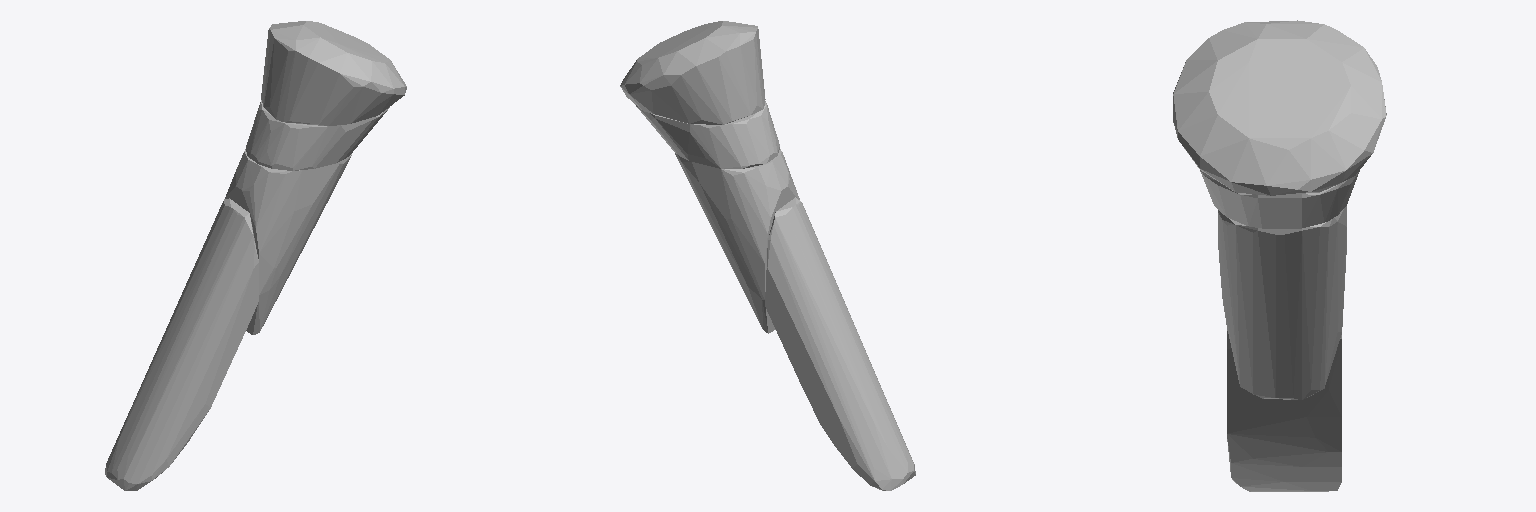
The robot description file, URDF, robot "root":
<robot name="root">
  <link name="link_thingiverse~recorder_mouth_piece_186865_convex_piece_0">
    <inertial>
      <origin rpy="0 0 0" xyz="0 0 0"/>
      <mass value="3.31E-02"/>
      <inertia ixx="6.15E-05" ixy="-3.14E-07" ixz="3.73E-05" iyy="8.41E-05" iyz="-5.29E-07" izz="2.44E-05"/>
    </inertial>
    <visual>
      <origin rpy="0 0 0" xyz="0 0 0"/>
      <geometry>
        <mesh filename="thingiverse~recorder_mouth_piece_186865_convex_piece_0.obj" scale="1.0000E+00 1.0000E+00 1.0000E+00"/>
      </geometry>
      <material name="">
        <color rgba="7.50E-01 7.50E-01 7.50E-01 1"/>
      </material>
    </visual>
    <collision>
      <origin rpy="0 0 0" xyz="0 0 0"/>
      <geometry>
        <mesh filename="thingiverse~recorder_mouth_piece_186865_convex_piece_0.obj" scale="1.0000E+00 1.0000E+00 1.0000E+00"/>
      </geometry>
    </collision>
  </link>
  <link name="link_thingiverse~recorder_mouth_piece_186865_convex_piece_1">
    <inertial>
      <origin rpy="0 0 0" xyz="0 0 0"/>
      <mass value="3.70E-02"/>
      <inertia ixx="7.83E-06" ixy="-2.14E-08" ixz="1.65E-06" iyy="8.41E-06" iyz="1.84E-08" izz="2.91E-06"/>
    </inertial>
    <visual>
      <origin rpy="0 0 0" xyz="0 0 0"/>
      <geometry>
        <mesh filename="thingiverse~recorder_mouth_piece_186865_convex_piece_1.obj" scale="1.0000E+00 1.0000E+00 1.0000E+00"/>
      </geometry>
      <material name="">
        <color rgba="7.50E-01 7.50E-01 7.50E-01 1"/>
      </material>
    </visual>
    <collision>
      <origin rpy="0 0 0" xyz="0 0 0"/>
      <geometry>
        <mesh filename="thingiverse~recorder_mouth_piece_186865_convex_piece_1.obj" scale="1.0000E+00 1.0000E+00 1.0000E+00"/>
      </geometry>
    </collision>
  </link>
  <joint name="link_thingiverse~recorder_mouth_piece_186865_convex_piece_1_joint" type="fixed">
    <origin rpy="0 0 0" xyz="0 0 0"/>
    <parent link="link_thingiverse~recorder_mouth_piece_186865_convex_piece_0"/>
    <child link="link_thingiverse~recorder_mouth_piece_186865_convex_piece_1"/>
  </joint>
  <link name="link_thingiverse~recorder_mouth_piece_186865_convex_piece_2">
    <inertial>
      <origin rpy="0 0 0" xyz="0 0 0"/>
      <mass value="1.99E-02"/>
      <inertia ixx="5.63E-06" ixy="-1.28E-07" ixz="3.39E-06" iyy="8.43E-06" iyz="-1.77E-07" izz="4.59E-06"/>
    </inertial>
    <visual>
      <origin rpy="0 0 0" xyz="0 0 0"/>
      <geometry>
        <mesh filename="thingiverse~recorder_mouth_piece_186865_convex_piece_2.obj" scale="1.0000E+00 1.0000E+00 1.0000E+00"/>
      </geometry>
      <material name="">
        <color rgba="7.50E-01 7.50E-01 7.50E-01 1"/>
      </material>
    </visual>
    <collision>
      <origin rpy="0 0 0" xyz="0 0 0"/>
      <geometry>
        <mesh filename="thingiverse~recorder_mouth_piece_186865_convex_piece_2.obj" scale="1.0000E+00 1.0000E+00 1.0000E+00"/>
      </geometry>
    </collision>
  </link>
  <joint name="link_thingiverse~recorder_mouth_piece_186865_convex_piece_2_joint" type="fixed">
    <origin rpy="0 0 0" xyz="0 0 0"/>
    <parent link="link_thingiverse~recorder_mouth_piece_186865_convex_piece_1"/>
    <child link="link_thingiverse~recorder_mouth_piece_186865_convex_piece_2"/>
  </joint>
  <link name="link_thingiverse~recorder_mouth_piece_186865_convex_piece_3">
    <inertial>
      <origin rpy="0 0 0" xyz="0 0 0"/>
      <mass value="3.69E-02"/>
      <inertia ixx="3.39E-05" ixy="-3.50E-07" ixz="1.49E-05" iyy="4.14E-05" iyz="-6.94E-07" izz="1.28E-05"/>
    </inertial>
    <visual>
      <origin rpy="0 0 0" xyz="0 0 0"/>
      <geometry>
        <mesh filename="thingiverse~recorder_mouth_piece_186865_convex_piece_3.obj" scale="1.0000E+00 1.0000E+00 1.0000E+00"/>
      </geometry>
      <material name="">
        <color rgba="7.50E-01 7.50E-01 7.50E-01 1"/>
      </material>
    </visual>
    <collision>
      <origin rpy="0 0 0" xyz="0 0 0"/>
      <geometry>
        <mesh filename="thingiverse~recorder_mouth_piece_186865_convex_piece_3.obj" scale="1.0000E+00 1.0000E+00 1.0000E+00"/>
      </geometry>
    </collision>
  </link>
  <joint name="link_thingiverse~recorder_mouth_piece_186865_convex_piece_3_joint" type="fixed">
    <origin rpy="0 0 0" xyz="0 0 0"/>
    <parent link="link_thingiverse~recorder_mouth_piece_186865_convex_piece_2"/>
    <child link="link_thingiverse~recorder_mouth_piece_186865_convex_piece_3"/>
  </joint>
</robot>

--- What the picture shows (computed from the rendered views, not written in the file) ---
The picture shows the robot from 3 angles, left to right: view 1: azimuth 30°, elevation 25°; view 2: azimuth 150°, elevation 25°; view 3: azimuth 270°, elevation 25°; orthographic projection.
Robot: root — 4 links, 3 joints (3 fixed); root link link_thingiverse~recorder_mouth_piece_186865_convex_piece_0; default pose: every joint at zero.
Links seen in each view (by area): view 1: link_thingiverse~recorder_mouth_piece_186865_convex_piece_0, link_thingiverse~recorder_mouth_piece_186865_convex_piece_3, link_thingiverse~recorder_mouth_piece_186865_convex_piece_1, link_thingiverse~recorder_mouth_piece_186865_convex_piece_2; view 2: link_thingiverse~recorder_mouth_piece_186865_convex_piece_0, link_thingiverse~recorder_mouth_piece_186865_convex_piece_3, link_thingiverse~recorder_mouth_piece_186865_convex_piece_1, link_thingiverse~recorder_mouth_piece_186865_convex_piece_2; view 3: link_thingiverse~recorder_mouth_piece_186865_convex_piece_3, link_thingiverse~recorder_mouth_piece_186865_convex_piece_1, link_thingiverse~recorder_mouth_piece_186865_convex_piece_0, link_thingiverse~recorder_mouth_piece_186865_convex_piece_2.
Boxes of the visible links, <box> form: link_thingiverse~recorder_mouth_piece_186865_convex_piece_0: <box>105,198,258,490</box>; link_thingiverse~recorder_mouth_piece_186865_convex_piece_3: <box>261,21,406,125</box>; link_thingiverse~recorder_mouth_piece_186865_convex_piece_1: <box>225,149,351,334</box>; link_thingiverse~recorder_mouth_piece_186865_convex_piece_2: <box>246,100,389,170</box>; link_thingiverse~recorder_mouth_piece_186865_convex_piece_0: <box>765,197,915,490</box>; link_thingiverse~recorder_mouth_piece_186865_convex_piece_3: <box>620,21,765,124</box>; link_thingiverse~recorder_mouth_piece_186865_convex_piece_1: <box>675,149,799,333</box>; link_thingiverse~recorder_mouth_piece_186865_convex_piece_2: <box>636,101,779,168</box>; link_thingiverse~recorder_mouth_piece_186865_convex_piece_3: <box>1173,20,1386,195</box>; link_thingiverse~recorder_mouth_piece_186865_convex_piece_1: <box>1218,206,1346,399</box>; link_thingiverse~recorder_mouth_piece_186865_convex_piece_0: <box>1227,330,1341,491</box>; link_thingiverse~recorder_mouth_piece_186865_convex_piece_2: <box>1200,170,1359,228</box>.
Size in the robot's own frame: 0.0811 by 0.0371 by 0.1121 metres.
Meshes: 4 distinct files referenced, 4 mesh visuals loaded (4 OBJ).
